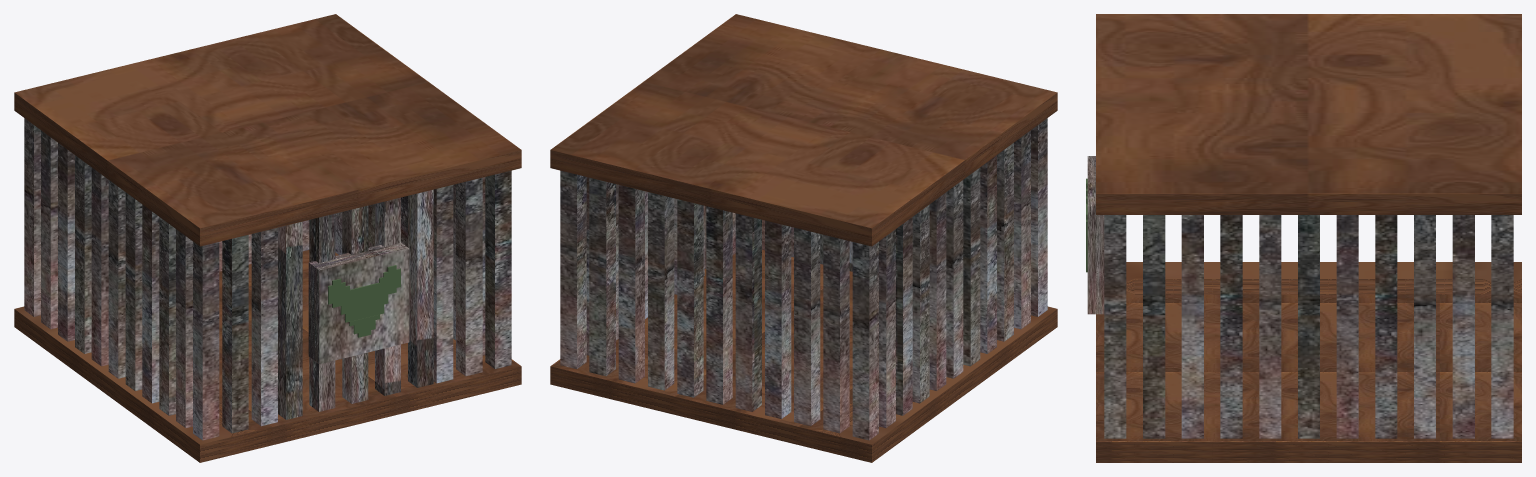
The model's file is cage.fbx.
The picture shows the model from 3 angles, left to right: view 1: azimuth 30°, elevation 25°; view 2: azimuth 150°, elevation 25°; view 3: azimuth 270°, elevation 25°; orthographic projection. The views are drawn at different scales.
Parts seen in each view (by area): view 1: Cube, Cube.001, Cube.002, Cube.003, Cube.008, Cube.004, Cube.007; view 2: Cube, Cube.001; view 3: Cube, Cube.001, Cube.003.
Boxes of the visible parts, left/top/right/bottom form: Cube: left=14, top=118, right=521, bottom=462; Cube.001: left=14, top=14, right=521, bottom=246; Cube.002: left=278, top=189, right=433, bottom=419; Cube.003: left=308, top=242, right=409, bottom=364; Cube.008: left=362, top=282, right=388, bottom=318; Cube.004: left=340, top=287, right=366, bottom=322; Cube.007: left=328, top=278, right=349, bottom=307; Cube: left=550, top=118, right=1057, bottom=462; Cube.001: left=550, top=14, right=1057, bottom=246; Cube: left=1096, top=215, right=1521, bottom=462; Cube.001: left=1096, top=14, right=1521, bottom=214; Cube.003: left=1087, top=156, right=1104, bottom=314.
Size of the model in its own units: 200 by 139 by 205.
